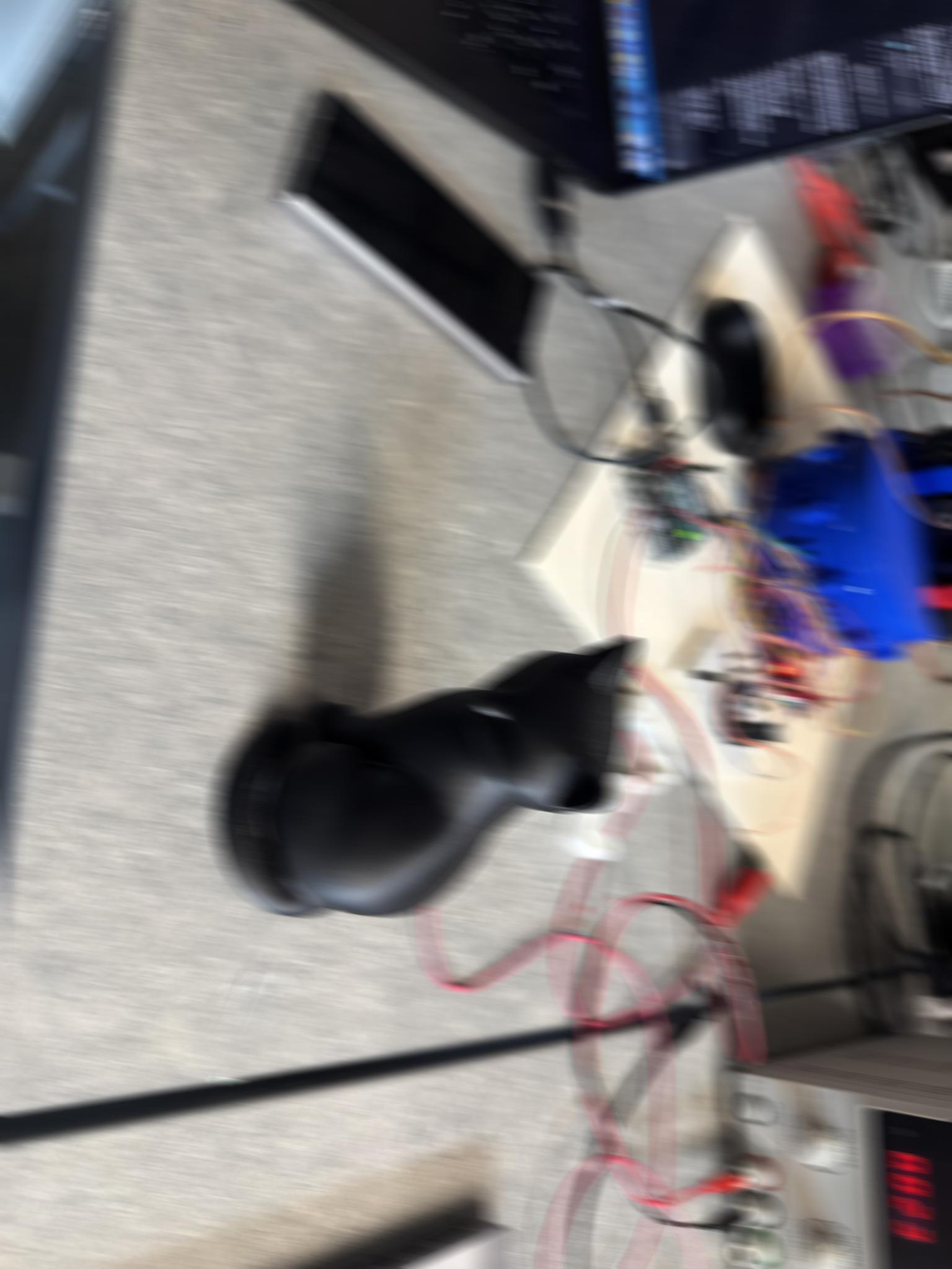cat: (214, 637, 639, 916)
